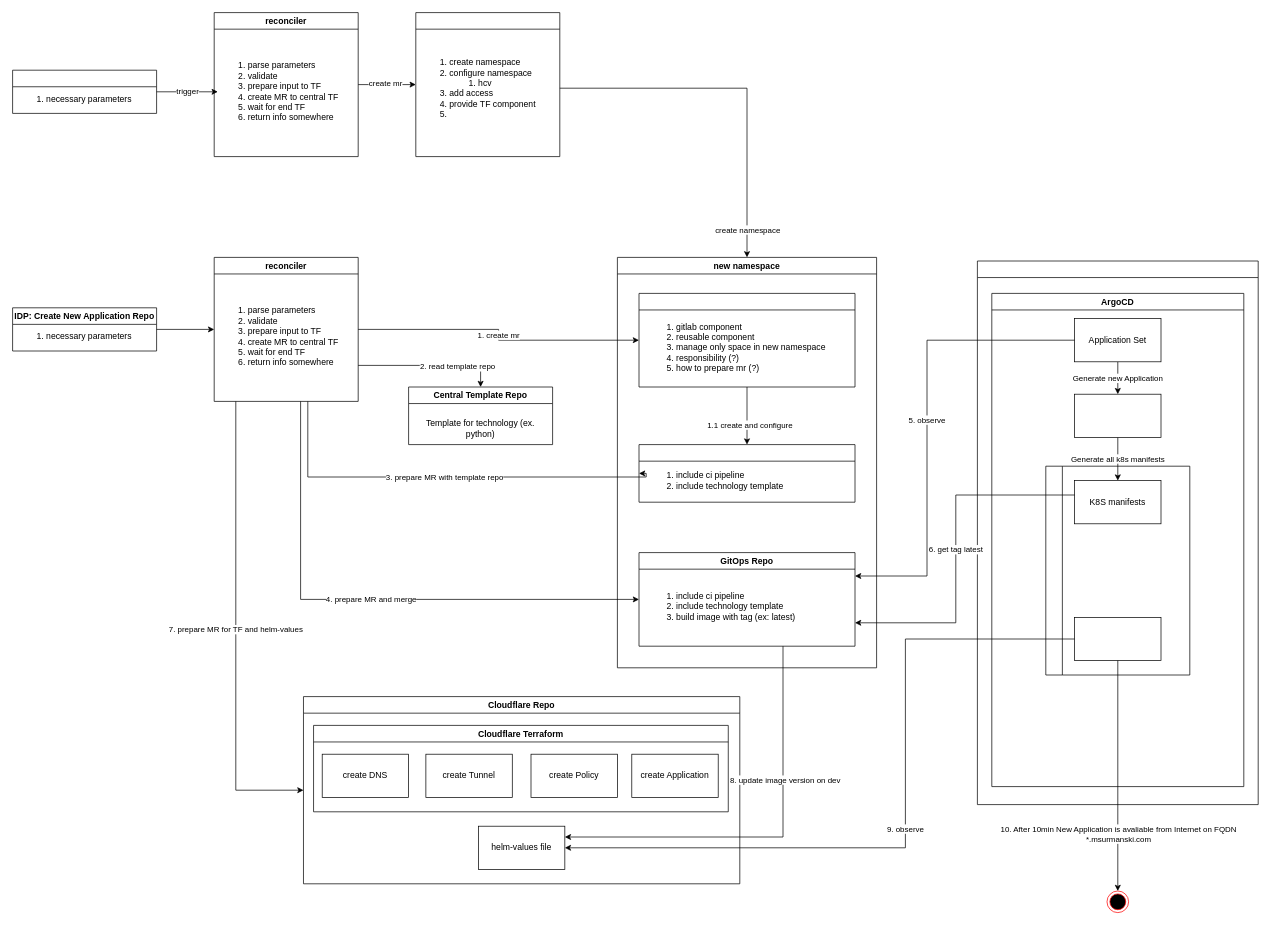
Image size: 1271x925. Some labels were removed from this diagram. The shapes that lost their labels are listed below. From the top down, each one's box as (x1, y1, x2, y2) in pixels, then its label:
(12, 69, 157, 113): IDP: Create Gitlab namespace
(415, 12, 560, 157): central terraform
(638, 293, 855, 387): Reusable Component for Terraform
(1074, 393, 1161, 437): Application
(638, 444, 855, 502): New App Repo
(977, 260, 1258, 805): K8S Cluster
(1045, 465, 1190, 675): Istio
(1074, 617, 1161, 661): Application Cloudflare
